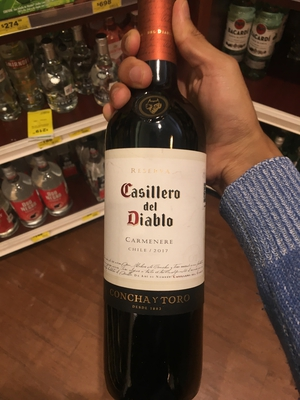casillero del diablo carmenere: (91, 3, 220, 400)
